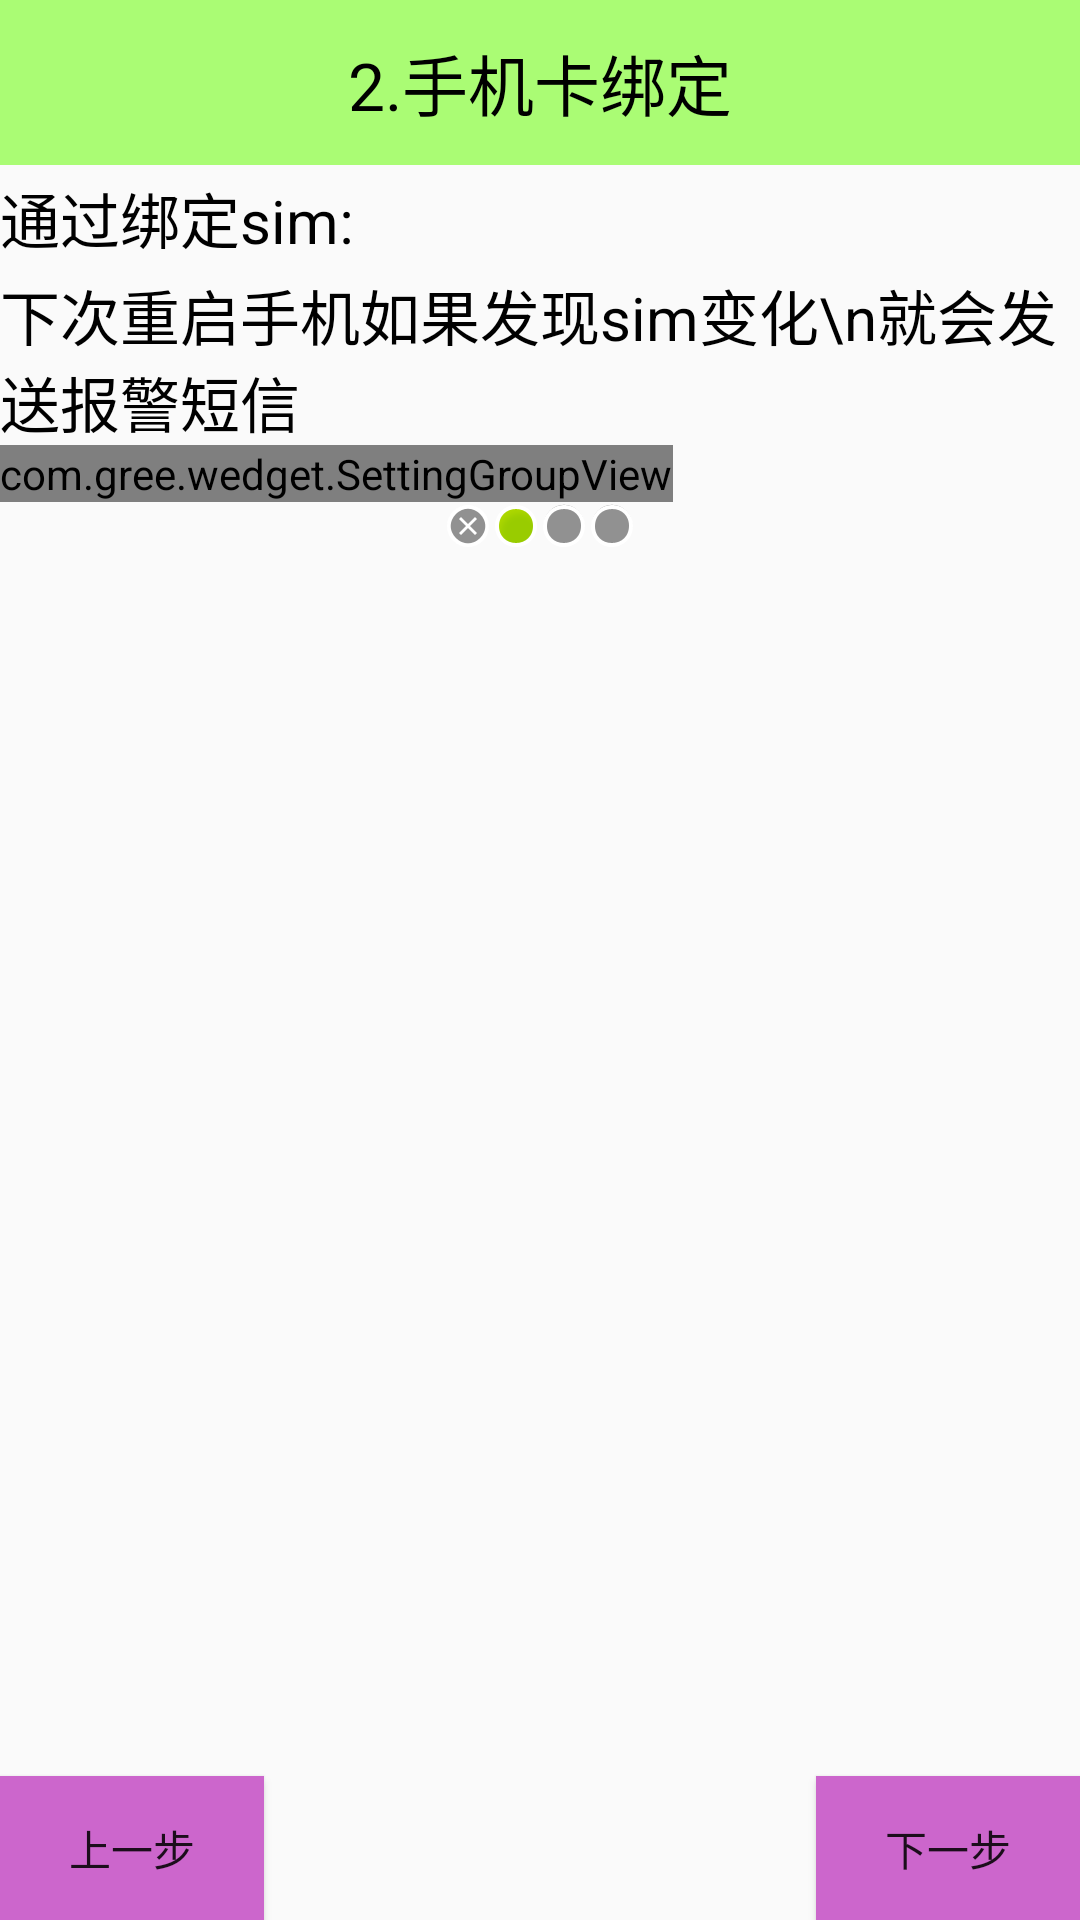

Icons on this 1080w x 1920h Android screen, each with its box as BBox(x1, y1, x2, y2):
presence offline: BBox(451, 509, 485, 544)
